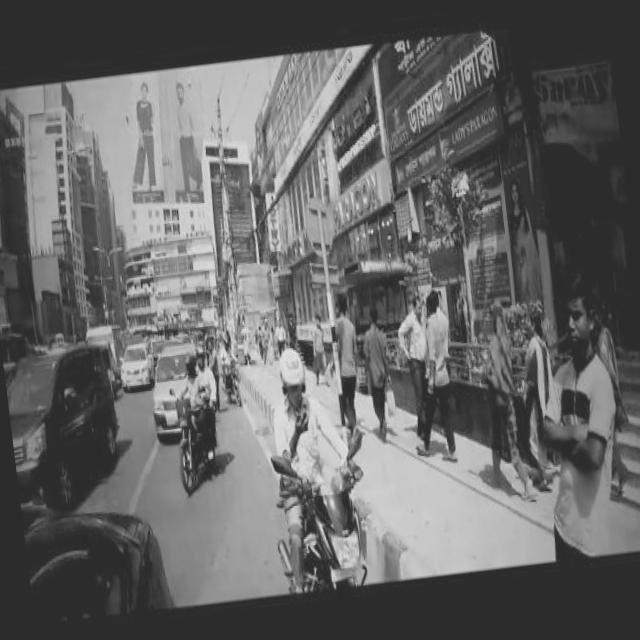car: (144, 337, 204, 436), (113, 336, 153, 386)
motorcycle: (262, 439, 372, 587), (165, 376, 222, 490), (216, 356, 241, 401)
truck: (1, 336, 126, 505)
